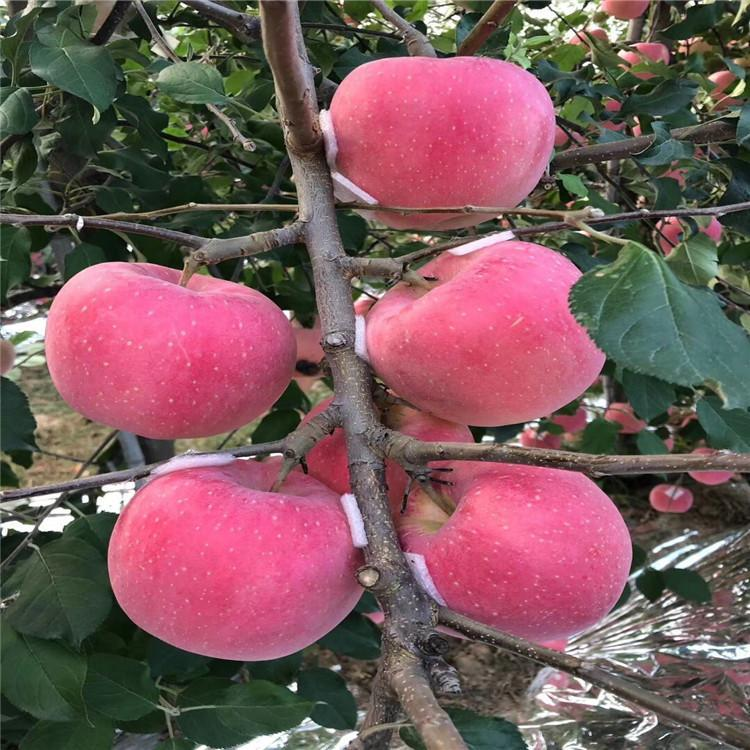apple: (105, 458, 360, 665), (362, 234, 602, 435), (391, 452, 630, 649), (41, 259, 294, 443), (323, 56, 554, 227)
